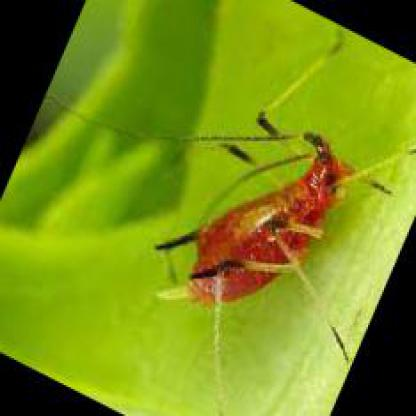uroleucon compositae: (160, 29, 394, 312)
